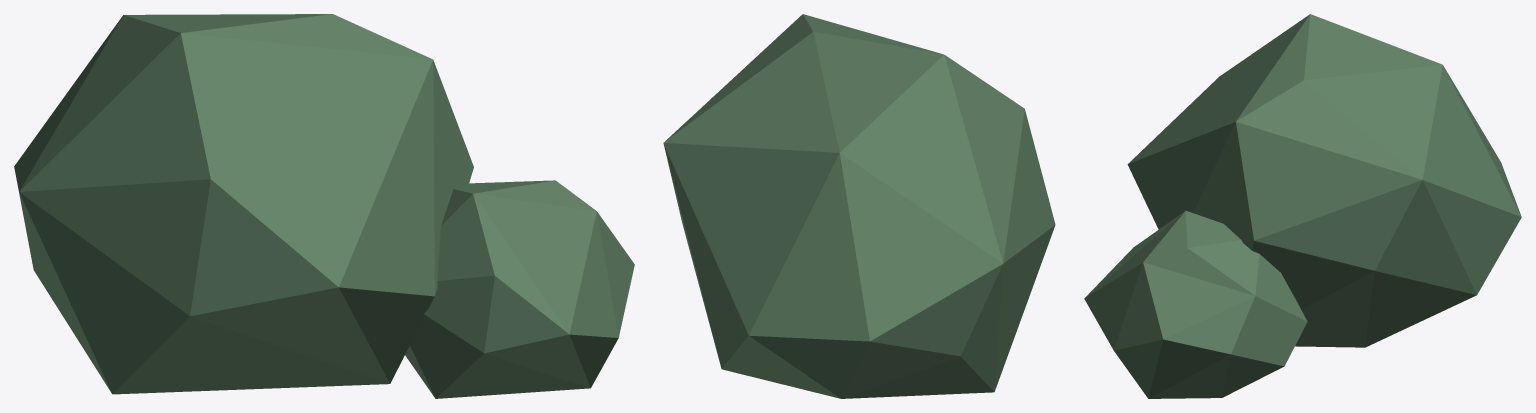
File: Bush2.fbx
The picture shows the model from 3 angles, left to right: view 1: azimuth 30°, elevation 25°; view 2: azimuth 150°, elevation 25°; view 3: azimuth 270°, elevation 25°; orthographic projection. The views are drawn at different scales.
Visible parts, largest first — view 1: polySurface1; view 2: polySurface1; view 3: polySurface1.
Boxes of the visible parts, x1,y1,x2,y2 form: polySurface1: (14,14,634,398); polySurface1: (663,14,1055,398); polySurface1: (1084,14,1521,398).
Size of the model in its own units: 8.25 by 6.01 by 8.64.
